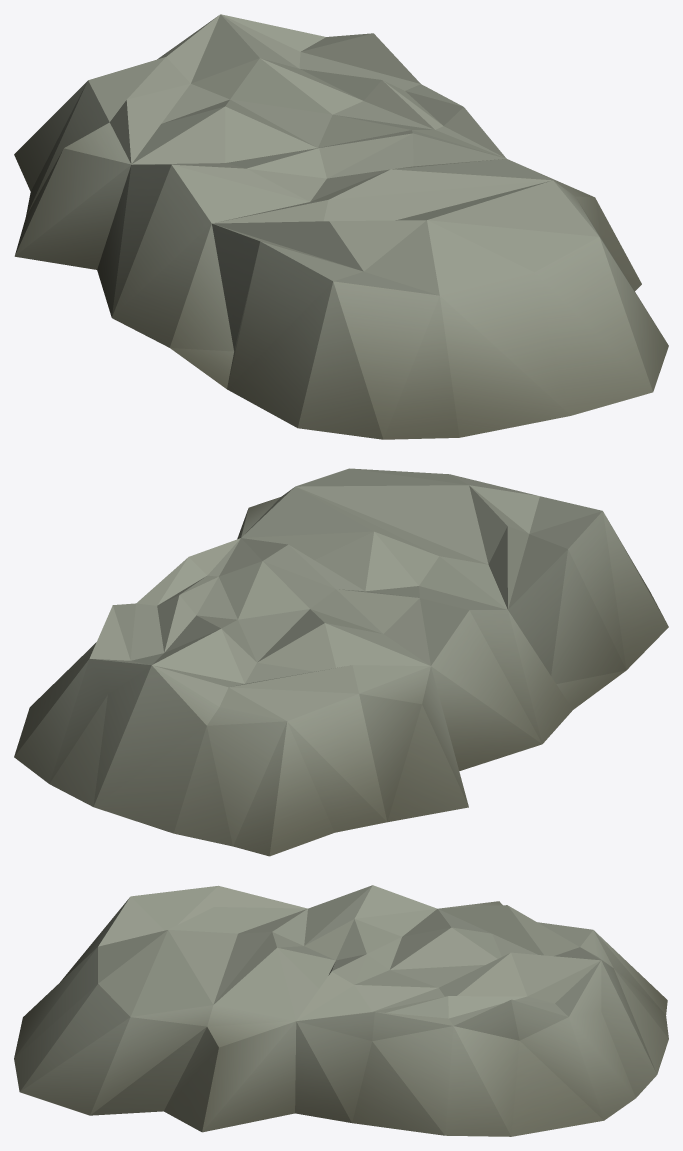
File: ZLP_Road_A_8.FBX
The picture shows the model from 3 angles, top to bottom: view 1: azimuth 30°, elevation 25°; view 2: azimuth 150°, elevation 25°; view 3: azimuth 270°, elevation 25°; orthographic projection. The views are drawn at different scales.
Parts seen in each view (by area): view 1: ZLP_Road_A_8; view 2: ZLP_Road_A_8; view 3: ZLP_Road_A_8.
Part boxes in pixels (bbox=[...]): ZLP_Road_A_8: bbox=[14, 14, 668, 439]; ZLP_Road_A_8: bbox=[14, 468, 668, 856]; ZLP_Road_A_8: bbox=[14, 885, 668, 1136].
Size of the model in its own units: 204 by 59.09 by 318.
